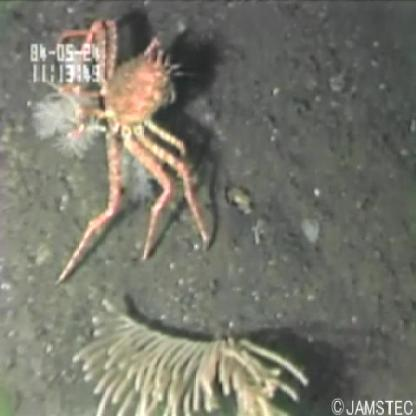Bio: (27, 15, 214, 285), (70, 293, 310, 416)
